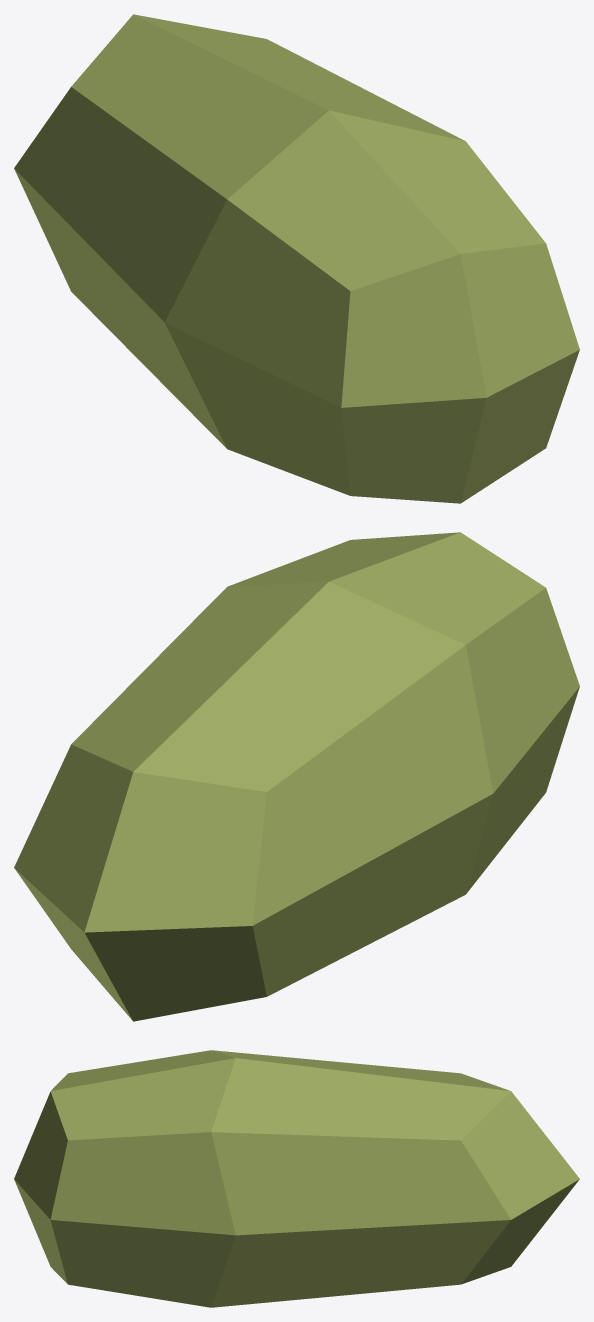
The model's file is seed.fbx.
3 views of the same model, one above another, from view 1: azimuth 30°, elevation 25°; view 2: azimuth 150°, elevation 25°; view 3: azimuth 270°, elevation 25° (orthographic). The views are drawn at different scales.
Parts seen in each view (by area): view 1: Cube; view 2: Cube; view 3: Cube.
Boxes of the visible parts, x1,y1,x2,y2 form: Cube: (14,14,579,503); Cube: (14,532,579,1021); Cube: (14,1050,579,1307).
Bounding box in the file's own units: 87.03 × 87.03 × 184.
